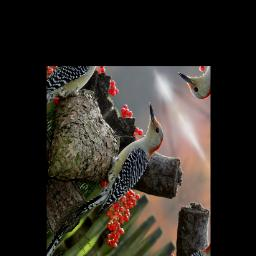Woodpecker: (57, 96, 176, 240)
